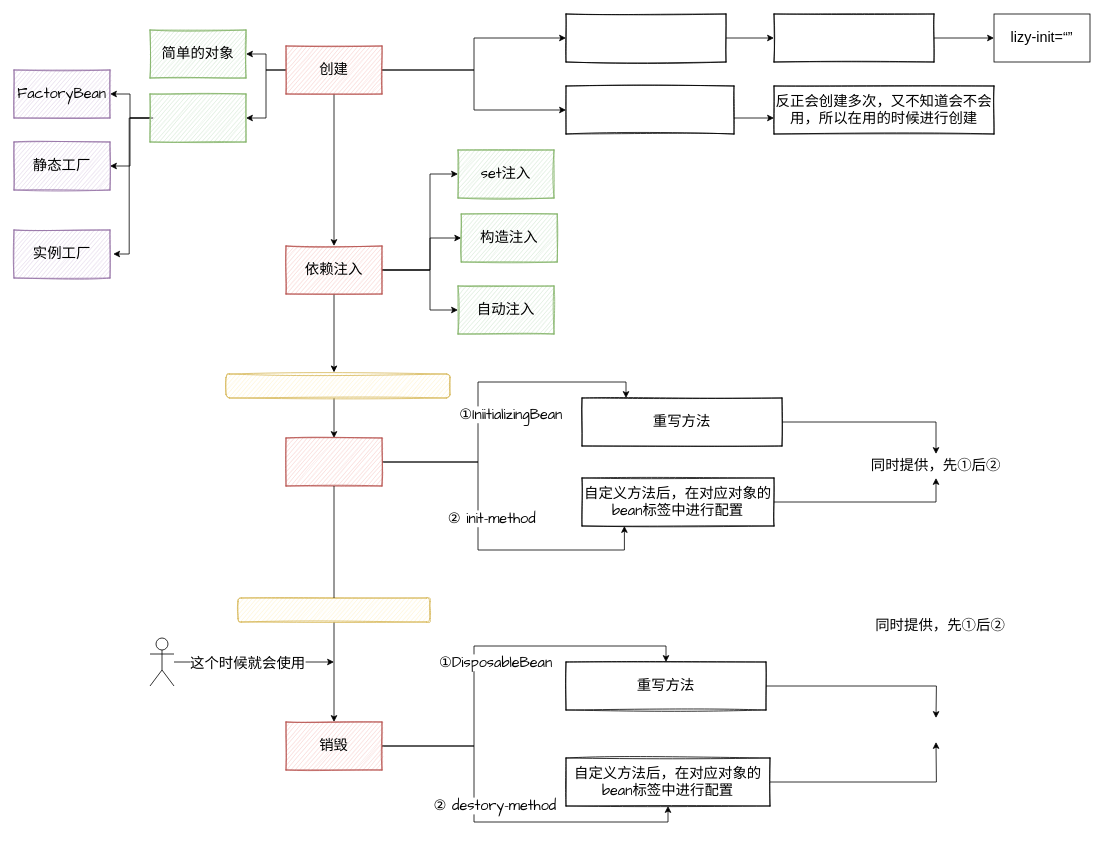
Image size: 1104x842. Some labels were removed from this diagram. Each missing label, with the centre of its shape:
Actor: point (161, 661)
BeanPostProcessor的After: point (333, 609)
BeanPostProcessor的Before: point (337, 385)
scope = "propotype": point (649, 109)
scope = “singleton”: point (645, 37)
初始化: point (333, 461)
复杂对象: point (197, 117)
工厂创建的时候，就创建: point (853, 37)
